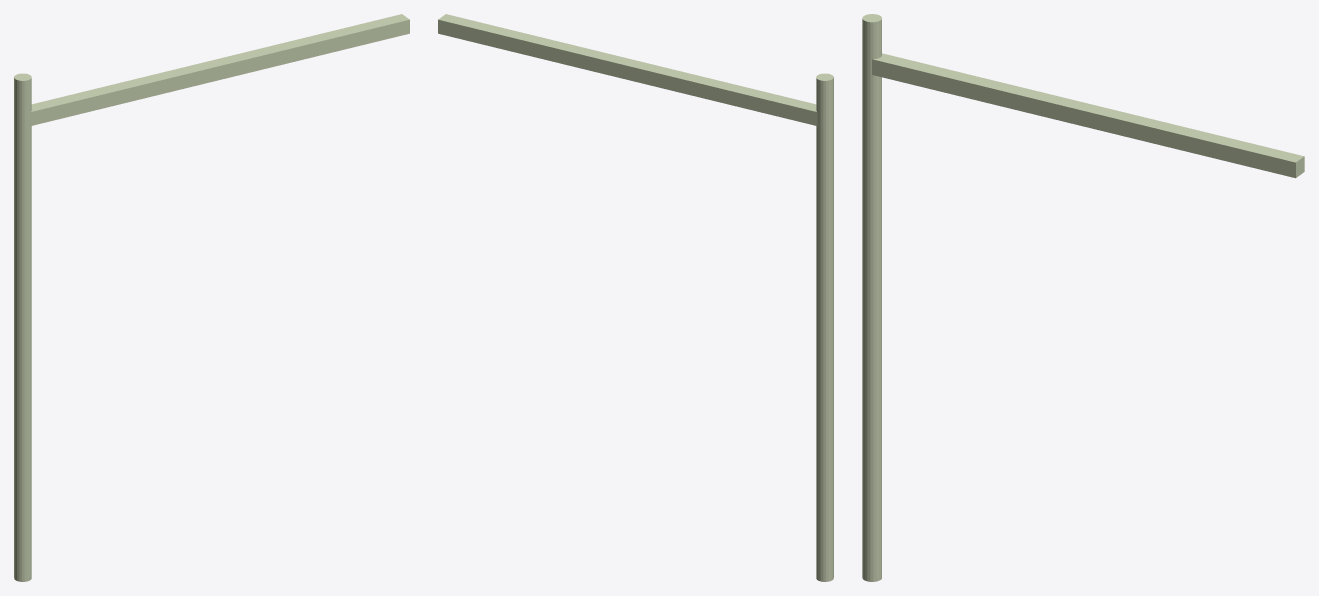
Rendered from furniture_signal_pole.glb.
The picture shows the model from 3 angles, left to right: view 1: azimuth 30°, elevation 25°; view 2: azimuth 150°, elevation 25°; view 3: azimuth 330°, elevation 25°; orthographic projection. The views are drawn at different scales.
Visible parts, largest first — view 1: pole_vertical, mast_arm; view 2: pole_vertical, mast_arm; view 3: pole_vertical, mast_arm.
Boxes of the visible parts, box(x1,y1,x2,y2) form: pole_vertical: box(14, 73, 31, 581); mast_arm: box(30, 14, 409, 126); pole_vertical: box(816, 73, 833, 581); mast_arm: box(438, 14, 817, 126); pole_vertical: box(862, 14, 881, 581); mast_arm: box(872, 53, 1304, 178).
Size of the model in its own units: 4.08 by 5 by 0.16.
